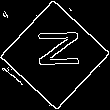N_W: (29, 34, 81, 76)
